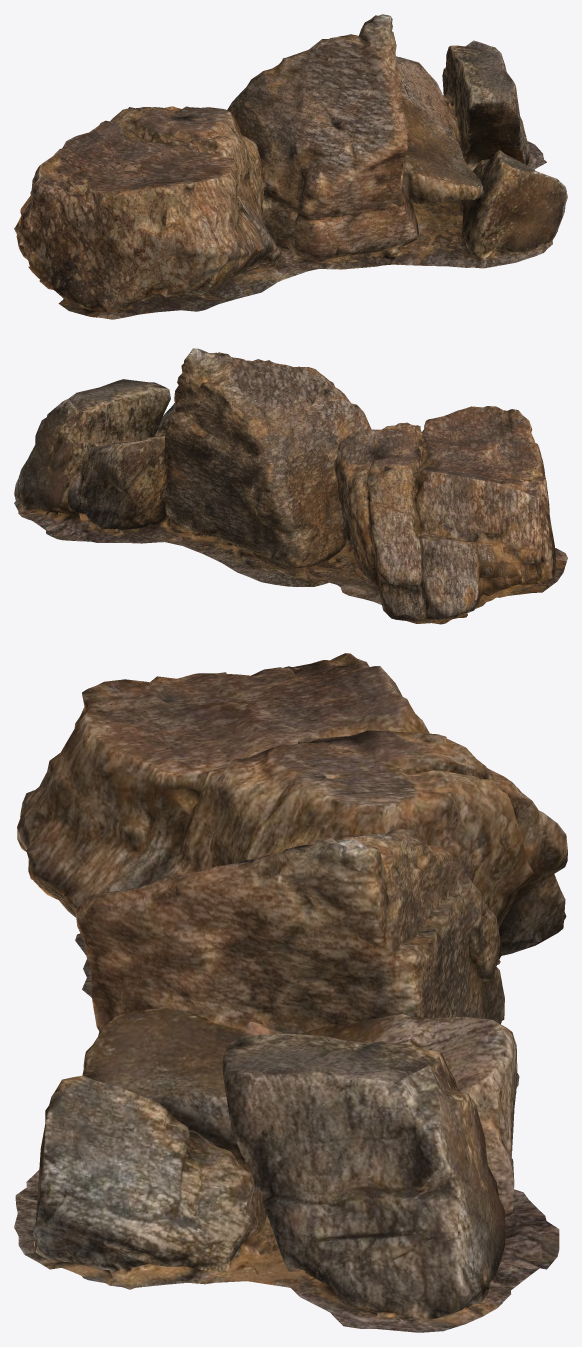
Rendered from namaqualand_boulder_02.gltf.
3 views of the same model, one above another, from view 1: azimuth 30°, elevation 25°; view 2: azimuth 150°, elevation 25°; view 3: azimuth 270°, elevation 25° (orthographic). The views are drawn at different scales.
Visible parts, largest first — view 1: boulder_02; view 2: boulder_02; view 3: boulder_02.
Boxes of the visible parts, <box> form: boulder_02: <box>14,14,567,319</box>; boulder_02: <box>14,348,567,624</box>; boulder_02: <box>14,653,567,1332</box>.
Bounding box in the file's own units: 2.53 × 0.8804 × 1.23.
Materials: 1 (1 with a texture image).
